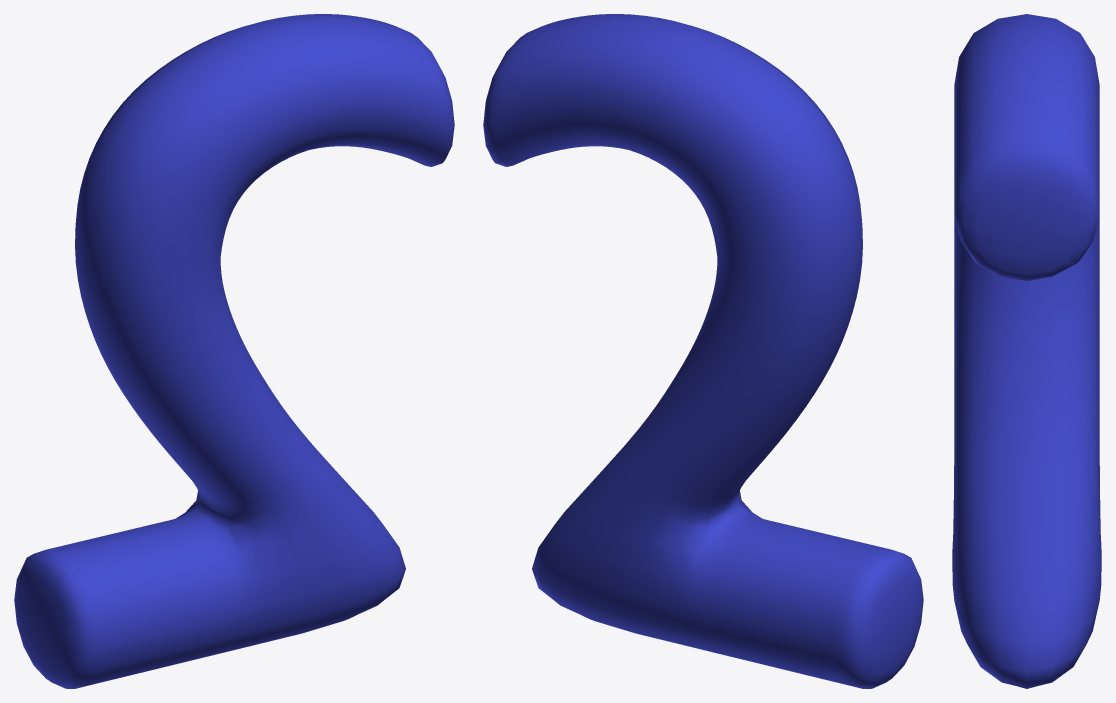
File: numero-2.glb
3 views of the same model, side by side, from view 1: azimuth 30°, elevation 25°; view 2: azimuth 150°, elevation 25°; view 3: azimuth 270°, elevation 25° (orthographic).
Parts seen in each view (by area): view 1: node_id30; view 2: node_id30; view 3: node_id30.
Boxes of the visible parts, x1=… form: node_id30: x1=14, y1=14, x2=454, y2=688; node_id30: x1=483, y1=14, x2=923, y2=688; node_id30: x1=952, y1=14, x2=1101, y2=688.
Bounding box in the file's own units: 0.3501 × 0.512 × 0.1132.
1 material, 1 textured.
